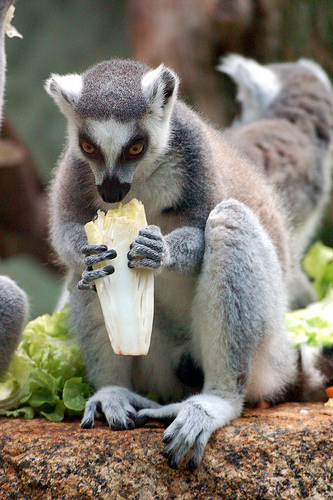cat: (41, 57, 312, 472)
